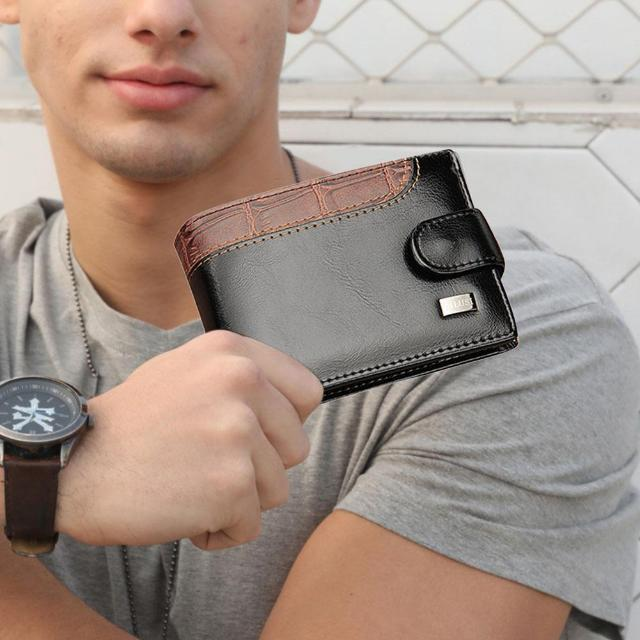wallet: (170, 148, 520, 404)
